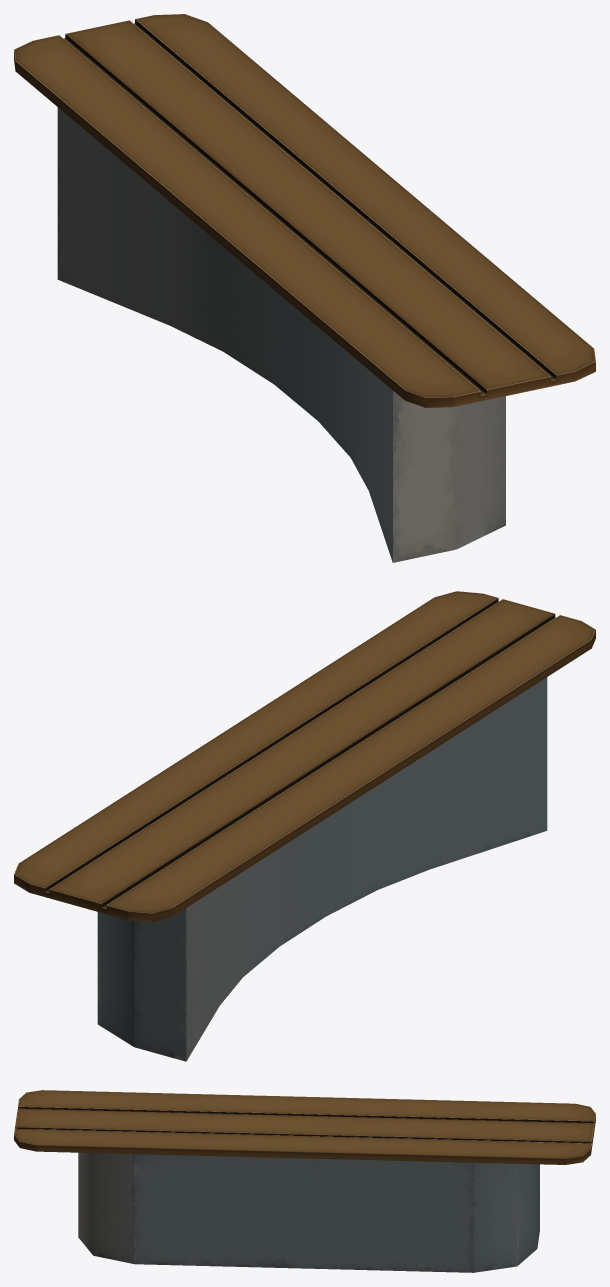
The model's file is Officetable1 1.fbx.
3 views of the same model, one above another, from view 1: azimuth 30°, elevation 25°; view 2: azimuth 150°, elevation 25°; view 3: azimuth 270°, elevation 25° (orthographic). The views are drawn at different scales.
Parts seen in each view (by area): view 1: Cube__35_, Cube__34_; view 2: Cube__35_, Cube__34_; view 3: Cube__34_, Cube__35_.
Part boxes in pixels (<box>): Cube__35_: <box>14,14,595,407</box>; Cube__34_: <box>57,107,505,562</box>; Cube__35_: <box>14,591,595,922</box>; Cube__34_: <box>97,677,547,1061</box>; Cube__34_: <box>78,1152,539,1272</box>; Cube__35_: <box>14,1090,595,1164</box>.
Size of the model in its own units: 134 by 112 by 480.
2 materials, 2 textured.
